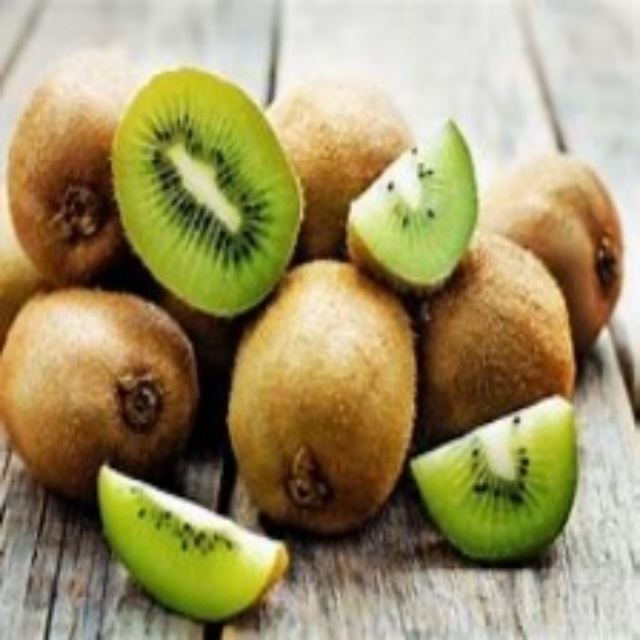kiwi: (426, 110, 639, 574), (4, 287, 289, 617), (212, 265, 429, 551), (101, 60, 310, 320), (3, 47, 162, 275), (241, 44, 415, 238)
